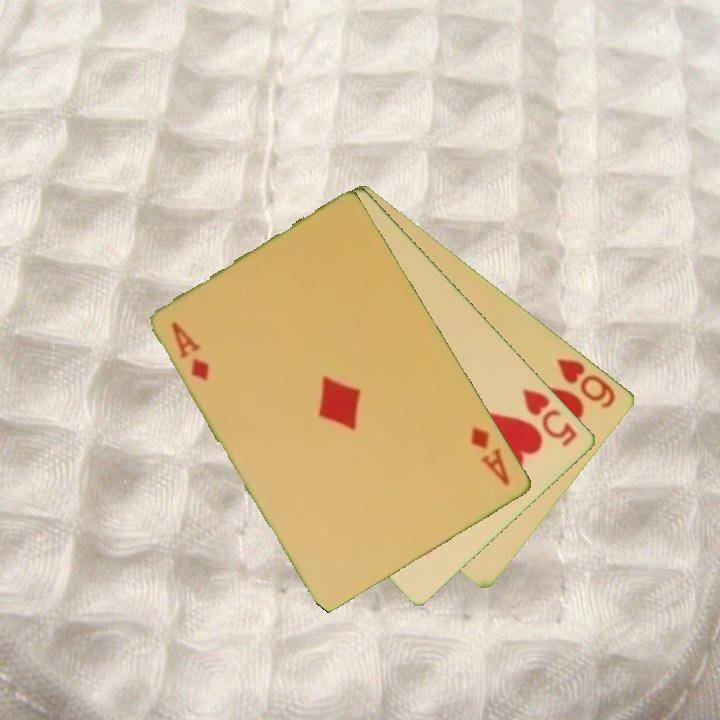5h: (519, 384, 581, 450)
6h: (553, 354, 620, 411)
Ad: (467, 423, 514, 489), (168, 317, 213, 385)
